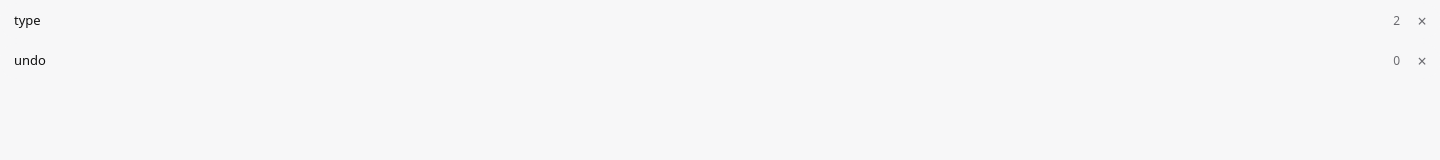
Test: TagEditor › does not say 'the 0 items' for a tag nothing uses
Click the button named "Delete undo" at [1422, 61], box [1408,47,1436,75]
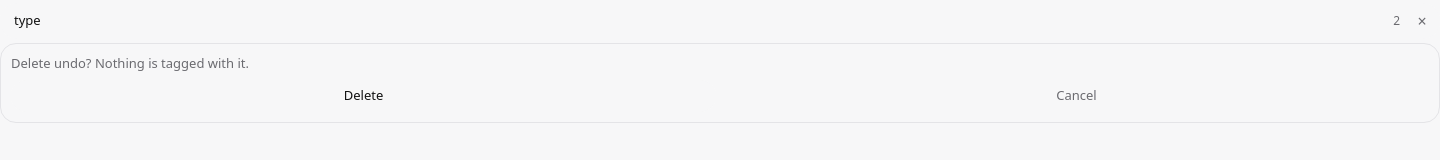
Expected: the text "Delete undo? Nothing is tagged with it." is shown, [11,54,249,72]
